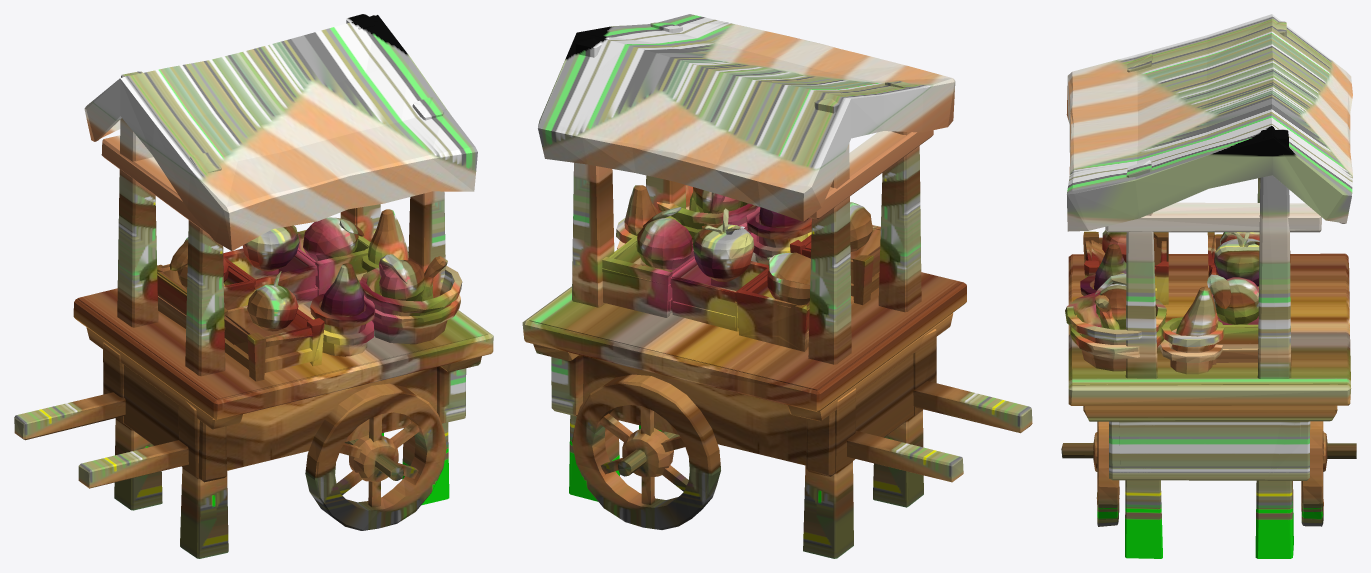
The model's file is cart_market.glb.
3 renders of one model, left to right at view 1: azimuth 30°, elevation 25°; view 2: azimuth 150°, elevation 25°; view 3: azimuth 270°, elevation 25°, orthographic. The views are drawn at different scales.
Visible parts, largest first — view 1: mesh_node; view 2: mesh_node; view 3: mesh_node.
Boxes of the visible parts, x1,y1,x2,y2 form: mesh_node: (14, 14, 493, 558); mesh_node: (522, 14, 1032, 558); mesh_node: (1061, 14, 1356, 558).
Size of the model in its own units: 0.7313 by 0.8 by 0.5078.
1 material, 1 textured.
